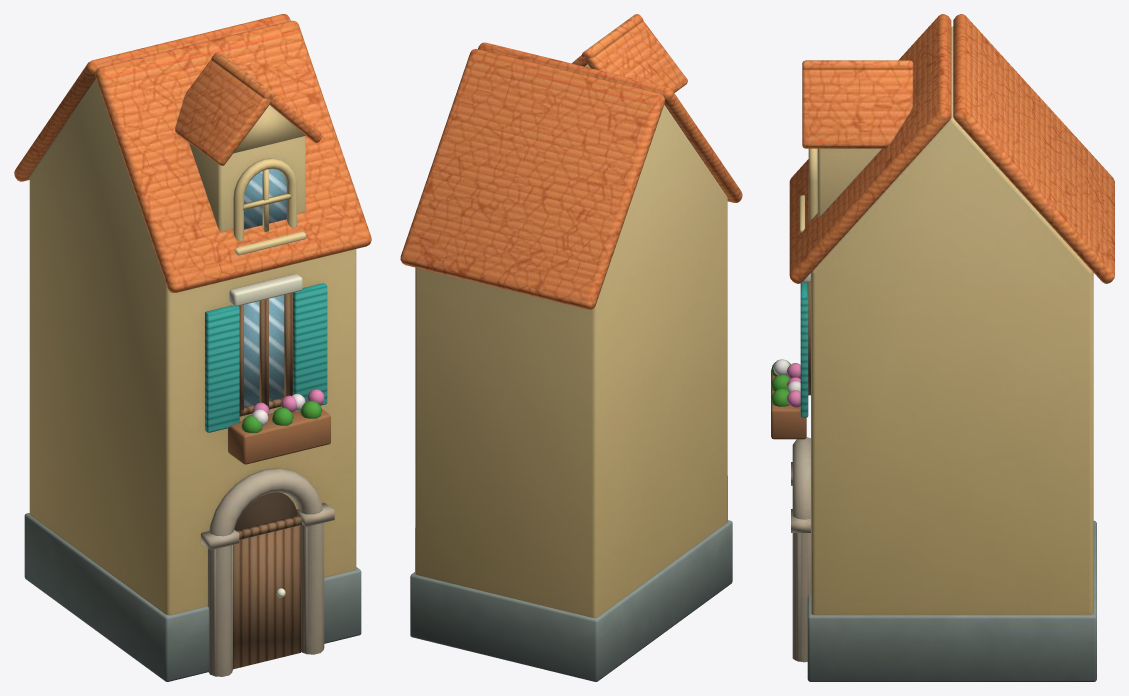
File: house_terra_1_high.glb
3 renders of one model, left to right at view 1: azimuth 30°, elevation 25°; view 2: azimuth 150°, elevation 25°; view 3: azimuth 270°, elevation 25°, orthographic. The views are drawn at different scales.
Visible parts, largest first — view 1: house_terra_1; view 2: house_terra_1; view 3: house_terra_1.
Part boxes in pixels (box(x1,y1,x2,y2)): house_terra_1: box(14, 14, 371, 681); house_terra_1: box(400, 14, 742, 681); house_terra_1: box(771, 14, 1114, 681).
Bounding box in the file's own units: 1.06 × 2.86 × 1.55.
Materials: 1 (1 with a texture image).
